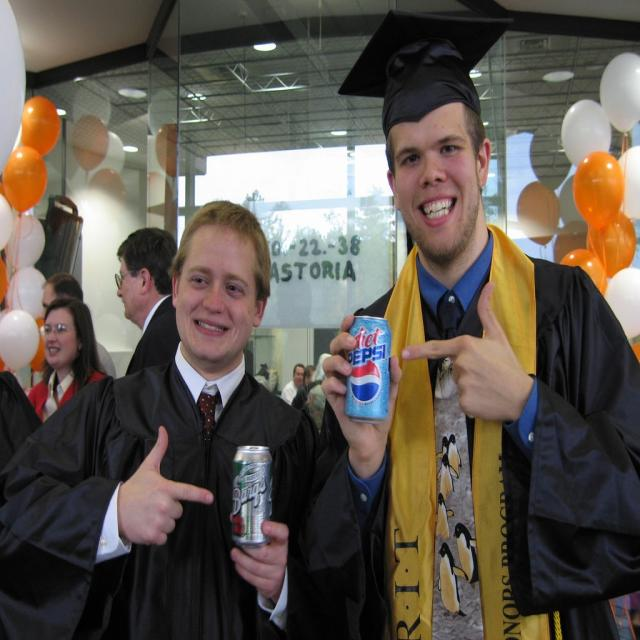pepsi: (349, 360, 383, 407)
